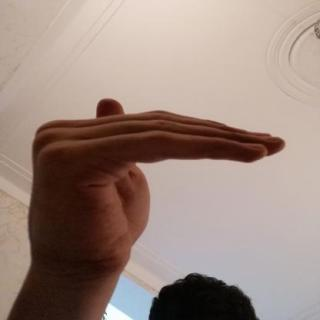KHAA: (12, 92, 301, 276)
